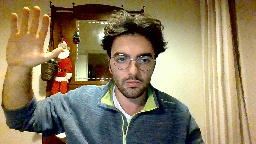Mano_aperta: (3, 4, 64, 69)
